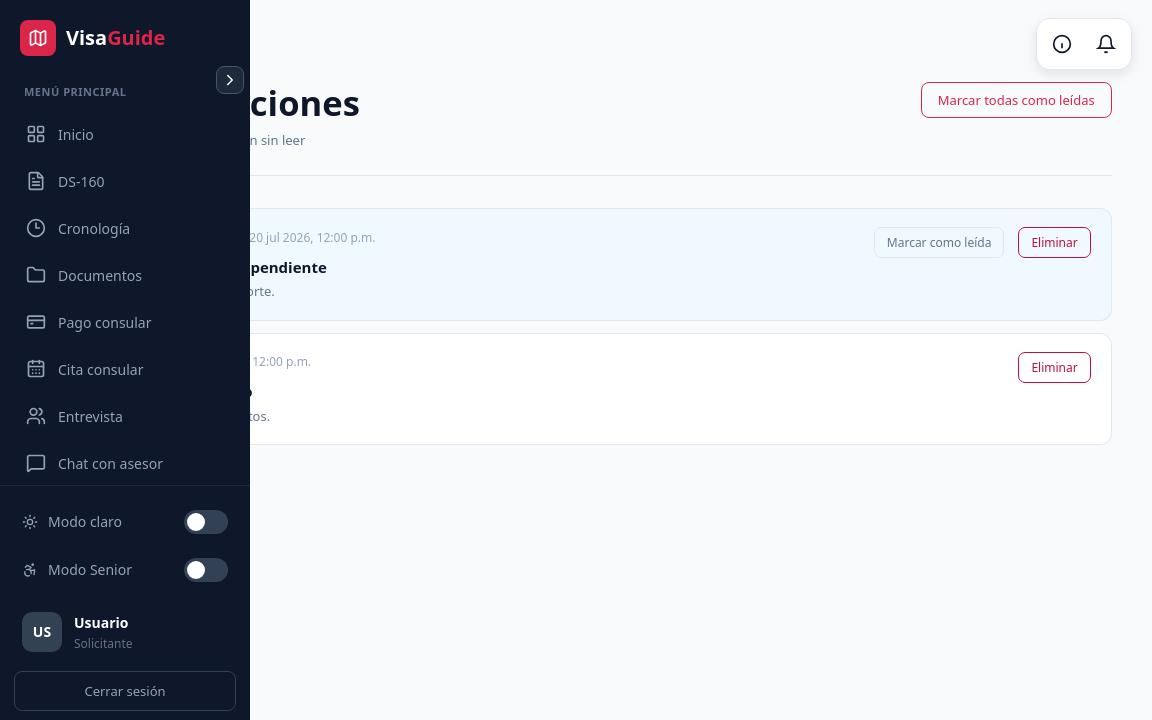
Scenario: Notificaciones › elimina una notificación y actualiza la interfaz
Click the button with aria-label "Eliminar: Documento pendiente" at (1055, 243), box [1018,228,1091,258]
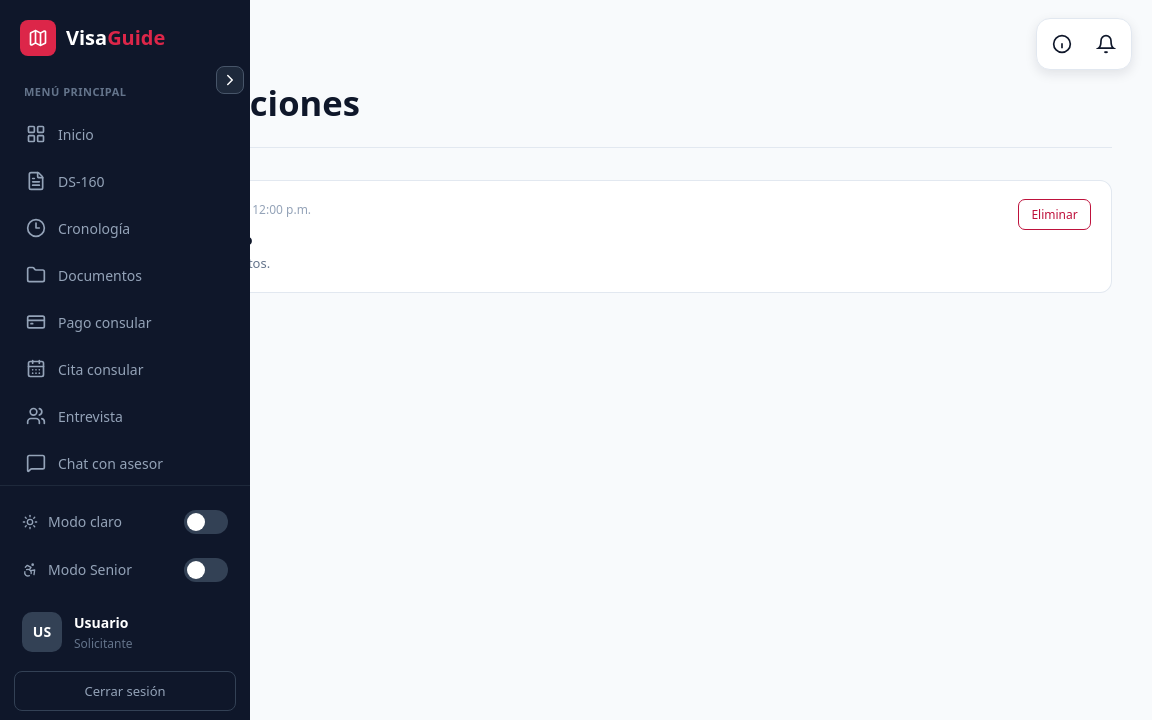
Expected: the text "Documento pendiente" is gone
